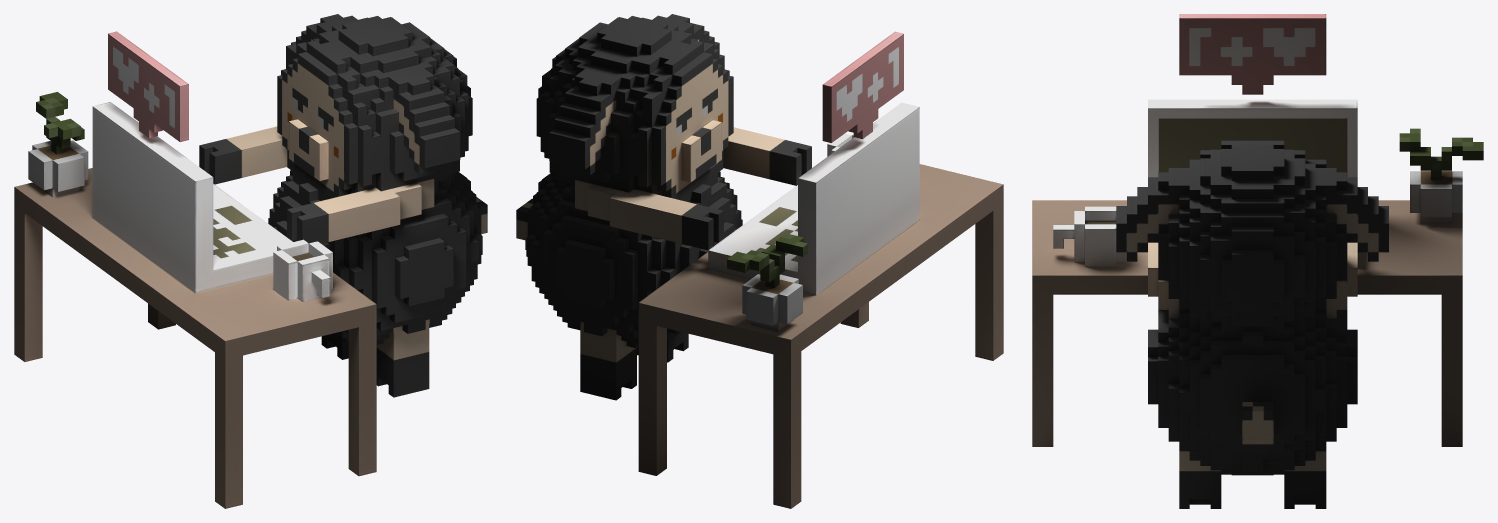
3 renders of one model, left to right at view 1: azimuth 30°, elevation 25°; view 2: azimuth 150°, elevation 25°; view 3: azimuth 270°, elevation 25°, orthographic. The views are drawn at different scales.
Visible parts, largest first — view 1: Untitled; view 2: Untitled; view 3: Untitled.
Boxes of the visible parts, bbox=[...] form: Untitled: bbox=[14, 14, 487, 508]; Untitled: bbox=[516, 14, 1003, 508]; Untitled: bbox=[1032, 14, 1483, 508].
Size of what is drawn, in the model's own units: 4.1 by 3.9 by 4.3.
Materials: 1 (1 with a texture image).
